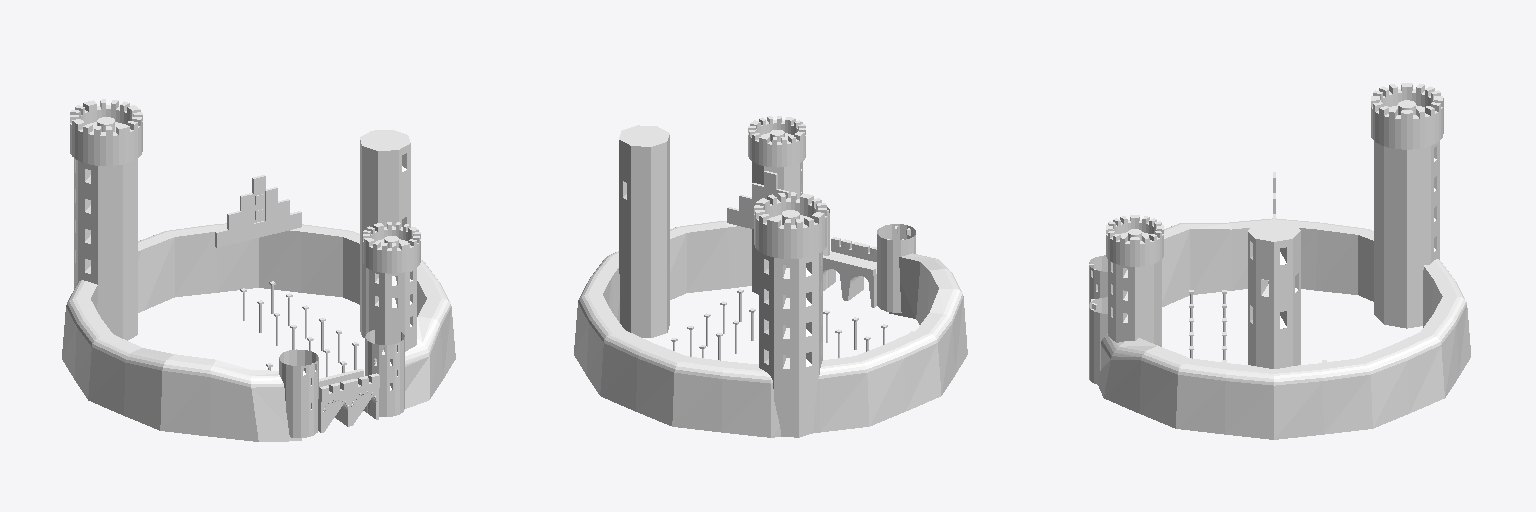
Rendered from Castle_StoneFeatures.obj.
3 views of the same model, side by side, from view 1: azimuth 30°, elevation 25°; view 2: azimuth 150°, elevation 25°; view 3: azimuth 270°, elevation 25° (orthographic).
Visible parts, largest first — view 1: Top.001, Tower_8Gon_rear, Towers_Gate, Tower_8Gon_middle, Crennelation.002, Tower_8Gon_front, Gable_Steps, Doorway.001, Crennelation.003, Columns.001; view 2: Top.001, Tower_8Gon_middle, Tower_8Gon_rear, Crennelation.002, Crennelation.003, Towers_Gate, Doorway.001, Tower_8Gon_front, Gable_Steps, Embrasures.004, Columns.001; view 3: Top.001, Tower_8Gon_rear, Tower_8Gon_middle, Crennelation.002, Tower_8Gon_front, Crennelation.003, Towers_Gate, Embrasures.003.
Boxes of the visible parts, <box> form: Top.001: <box>62,223,455,441</box>; Tower_8Gon_rear: <box>74,158,137,340</box>; Towers_Gate: <box>279,330,404,437</box>; Tower_8Gon_middle: <box>360,130,410,337</box>; Crennelation.002: <box>70,99,142,165</box>; Tower_8Gon_front: <box>366,268,416,351</box>; Gable_Steps: <box>215,175,301,247</box>; Doorway.001: <box>318,369,379,432</box>; Crennelation.003: <box>363,222,420,273</box>; Columns.001: <box>243,285,356,376</box>; Top.001: <box>574,221,967,437</box>; Tower_8Gon_middle: <box>619,125,669,337</box>; Tower_8Gon_rear: <box>759,251,822,437</box>; Crennelation.002: <box>754,192,826,258</box>; Crennelation.003: <box>748,116,805,167</box>; Towers_Gate: <box>823,207,915,312</box>; Doorway.001: <box>823,237,876,307</box>; Tower_8Gon_front: <box>752,161,802,294</box>; Gable_Steps: <box>727,171,789,228</box>; Embrasures.004: <box>764,252,821,368</box>; Columns.001: <box>673,293,884,360</box>; Top.001: <box>1098,218,1470,439</box>; Tower_8Gon_rear: <box>1374,141,1439,328</box>; Tower_8Gon_middle: <box>1248,220,1300,368</box>; Crennelation.002: <box>1371,83,1443,149</box>; Tower_8Gon_front: <box>1108,260,1161,346</box>; Crennelation.003: <box>1106,215,1163,266</box>; Towers_Gate: <box>1089,255,1107,384</box>; Embrasures.003: <box>1250,241,1298,328</box>.
Bounding box in the file's own units: 11.88 × 7.7 × 11.54.